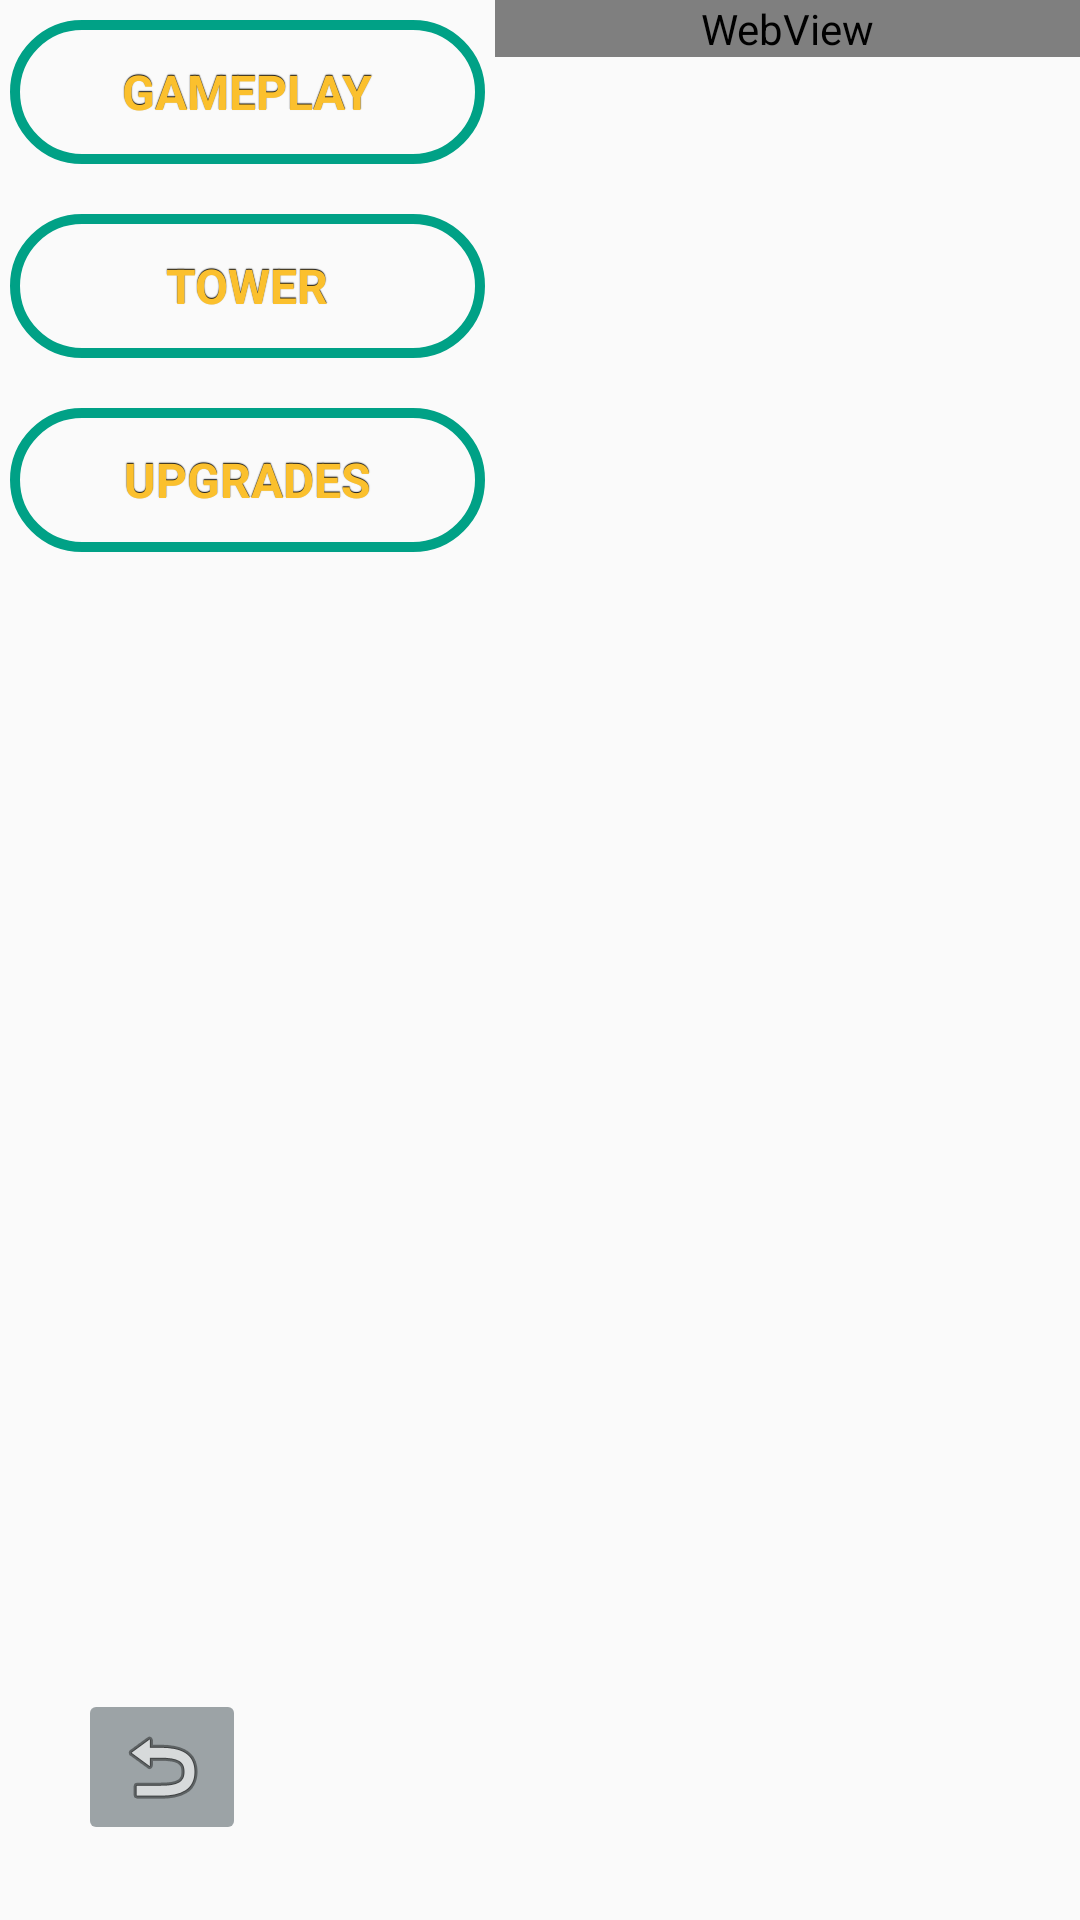

Named icons in this screenshot (1080×1920) and their bounding boxes, (x1, y1, x2, y2):
revert: (90, 1707, 234, 1827)
